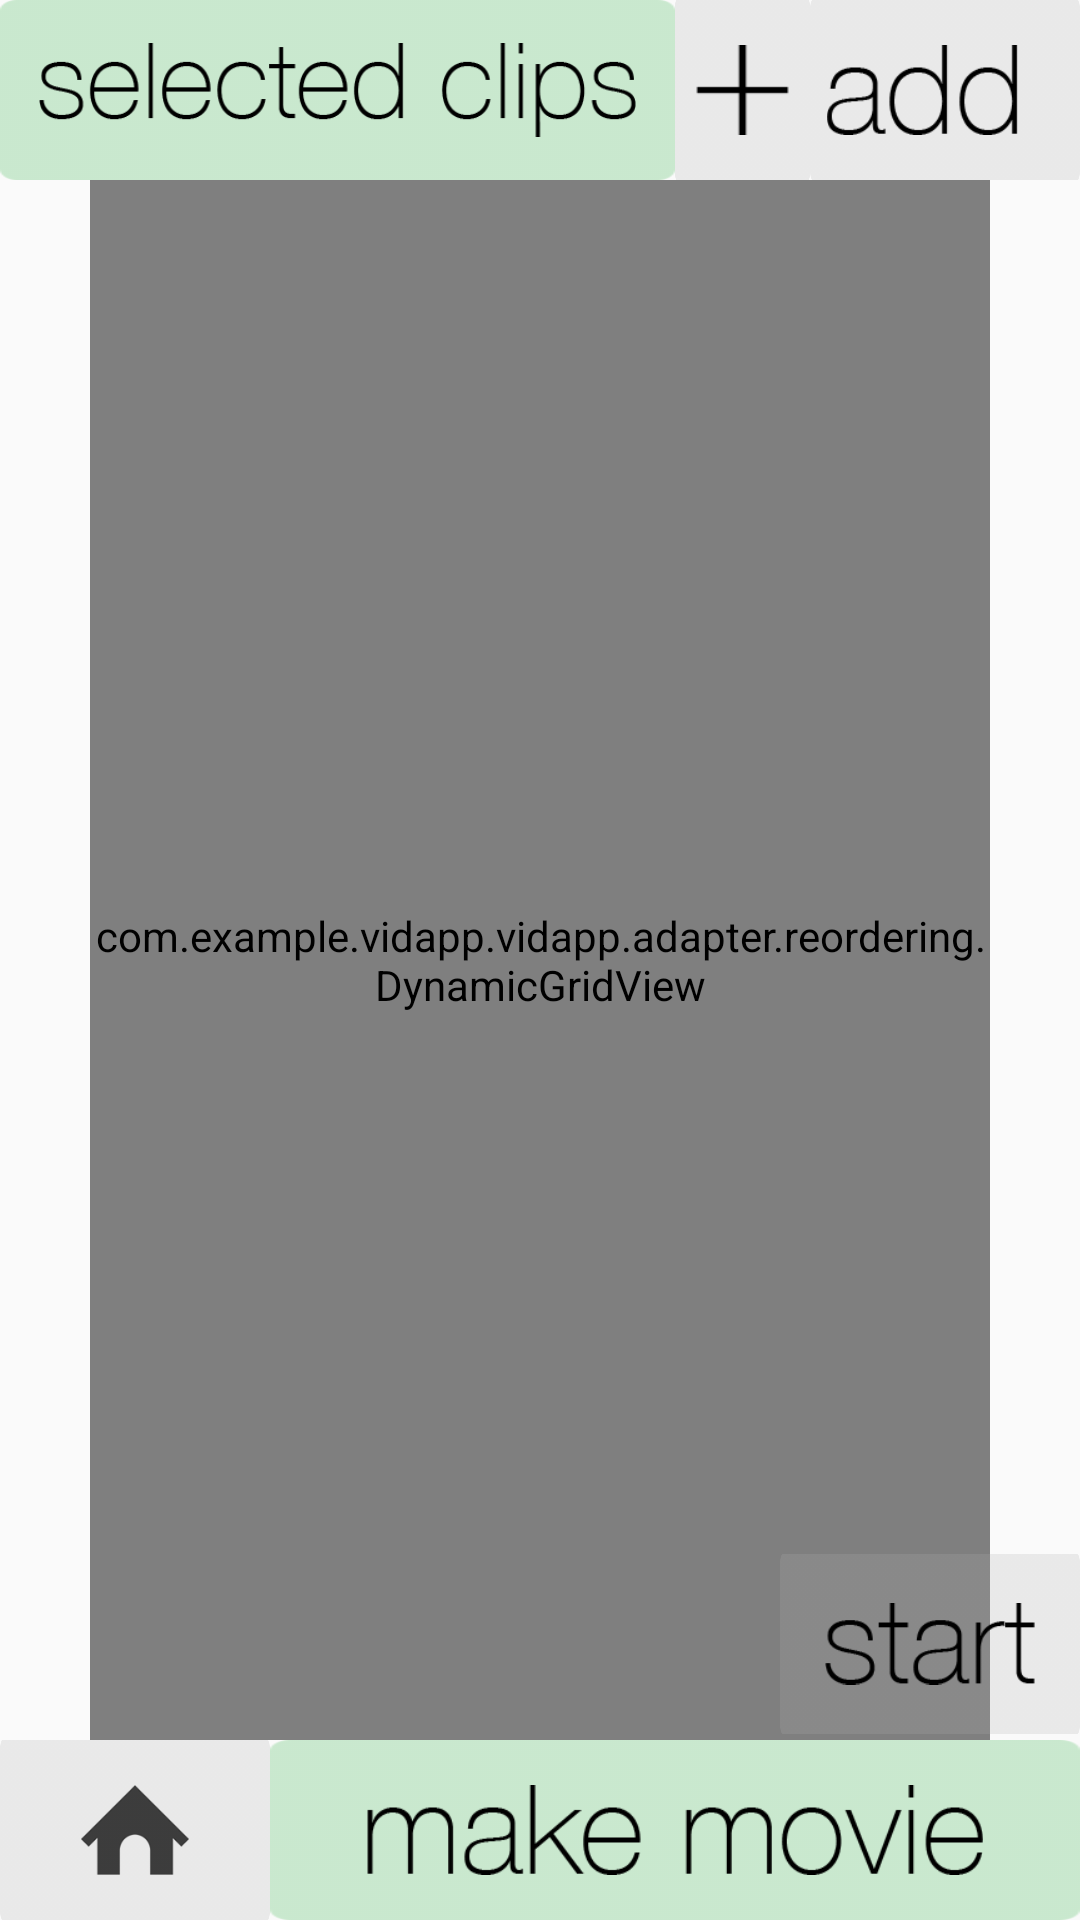

Locate icon controls on the screen. Image size 1080px x 1920px, boxes as (x1, y1, x2, y2).
plus: (696, 45, 789, 135)
